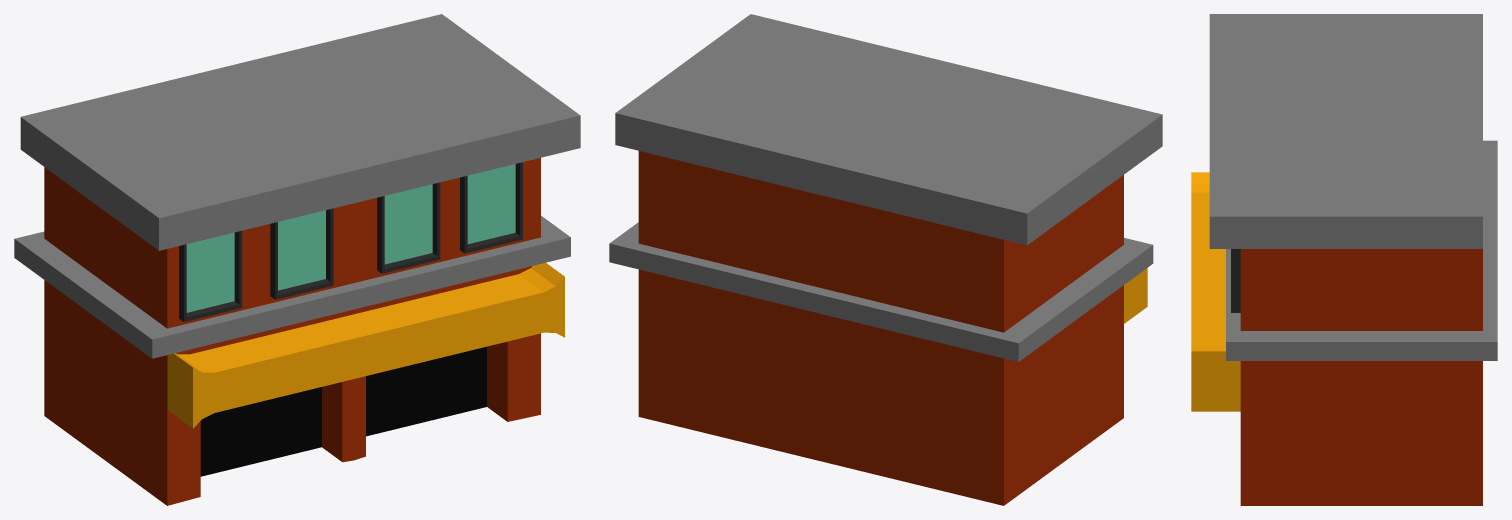
File: LojaGenericaEscalavel.fbx
The picture shows the model from 3 angles, left to right: view 1: azimuth 30°, elevation 25°; view 2: azimuth 150°, elevation 25°; view 3: azimuth 270°, elevation 25°; orthographic projection. The views are drawn at different scales.
Parts seen in each view (by area): view 1: LojaGenericaEscalavel; view 2: LojaGenericaEscalavel; view 3: LojaGenericaEscalavel.
Boxes of the visible parts, x1=… form: LojaGenericaEscalavel: x1=14, y1=14, x2=580, y2=505; LojaGenericaEscalavel: x1=609, y1=14, x2=1162, y2=505; LojaGenericaEscalavel: x1=1191, y1=14, x2=1497, y2=505.
Size of the model in its own units: 1095 by 757 by 699.
Materials: 1 (1 with a texture image).
